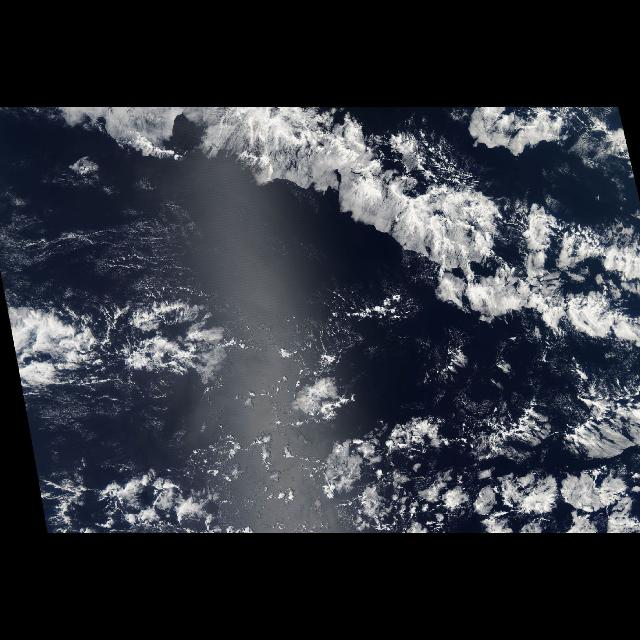Fish: (50, 110, 636, 378)
Flower: (291, 375, 639, 533)
Sugar: (14, 197, 288, 303)
